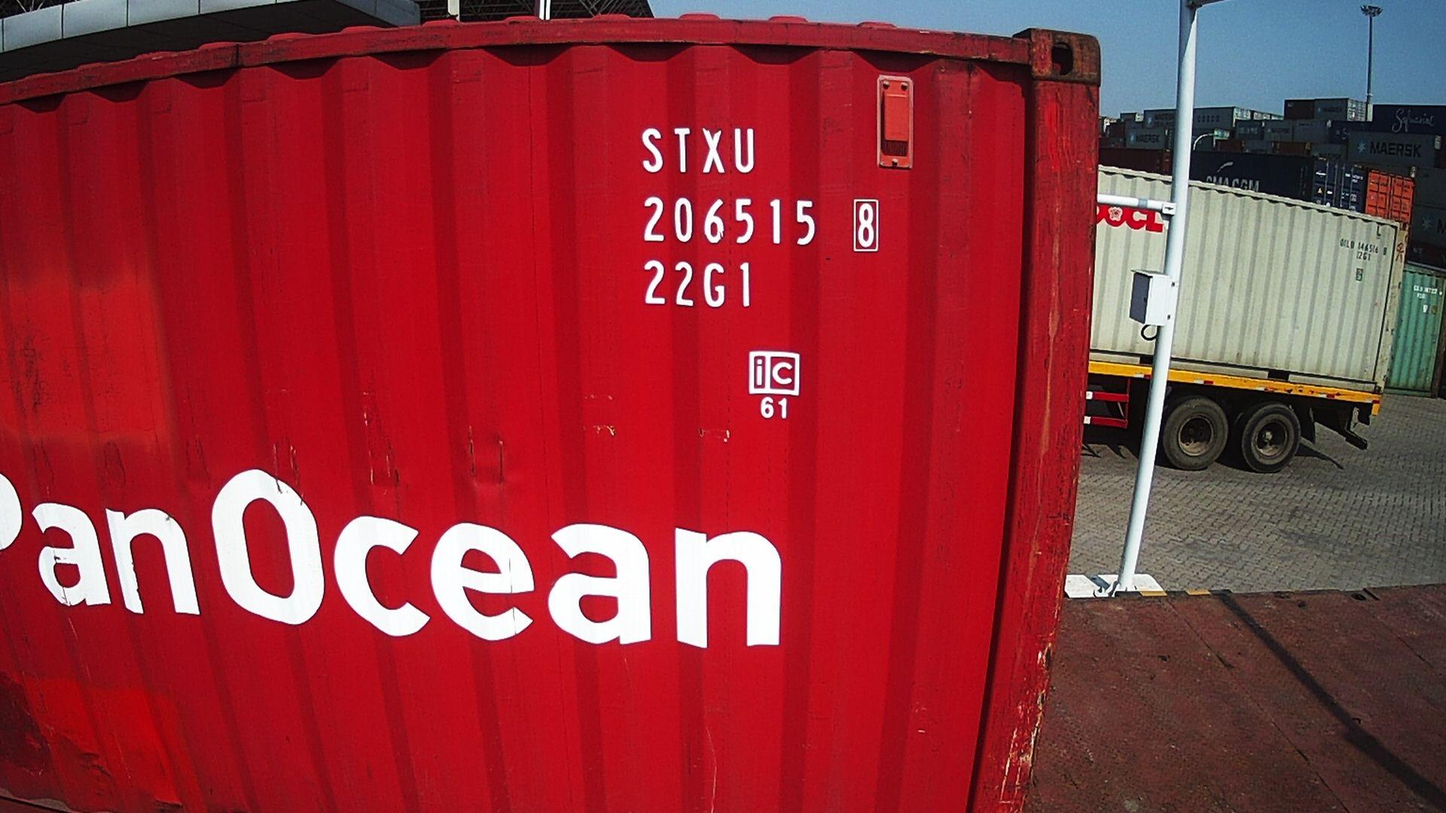container-numbers: (637, 192, 883, 254), (636, 124, 759, 180), (640, 257, 756, 312)
